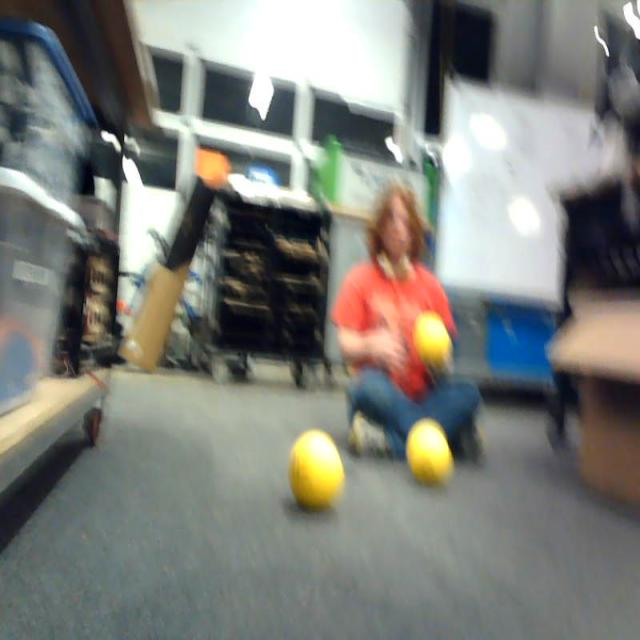Fuel: (289, 430, 344, 514), (406, 420, 452, 486), (415, 314, 449, 366)
